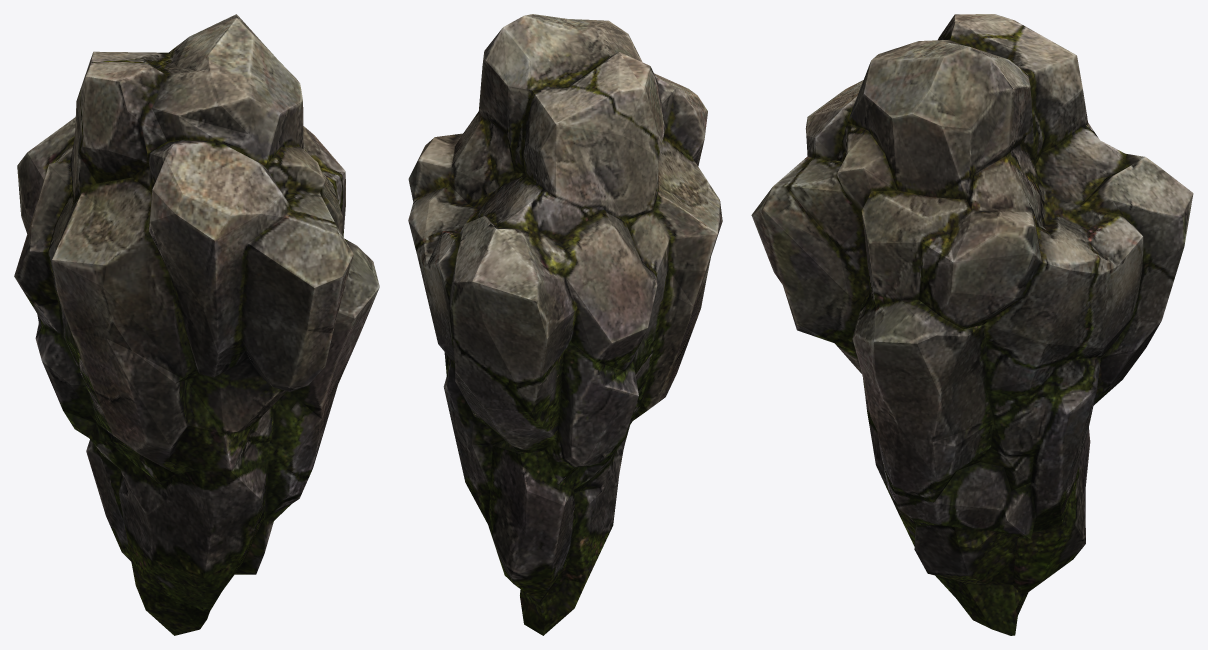
File: QYS_ys_A_01_04.FBX
The picture shows the model from 3 angles, left to right: view 1: azimuth 30°, elevation 25°; view 2: azimuth 150°, elevation 25°; view 3: azimuth 270°, elevation 25°; orthographic projection. The views are drawn at different scales.
Parts seen in each view (by area): view 1: QYS_ys_A_01_04; view 2: QYS_ys_A_01_04; view 3: QYS_ys_A_01_04.
Boxes of the visible parts, <box> form: QYS_ys_A_01_04: <box>14,14,379,635</box>; QYS_ys_A_01_04: <box>408,14,722,635</box>; QYS_ys_A_01_04: <box>751,14,1193,635</box>.
Size of the model in its own units: 978 by 1920 by 1263.
